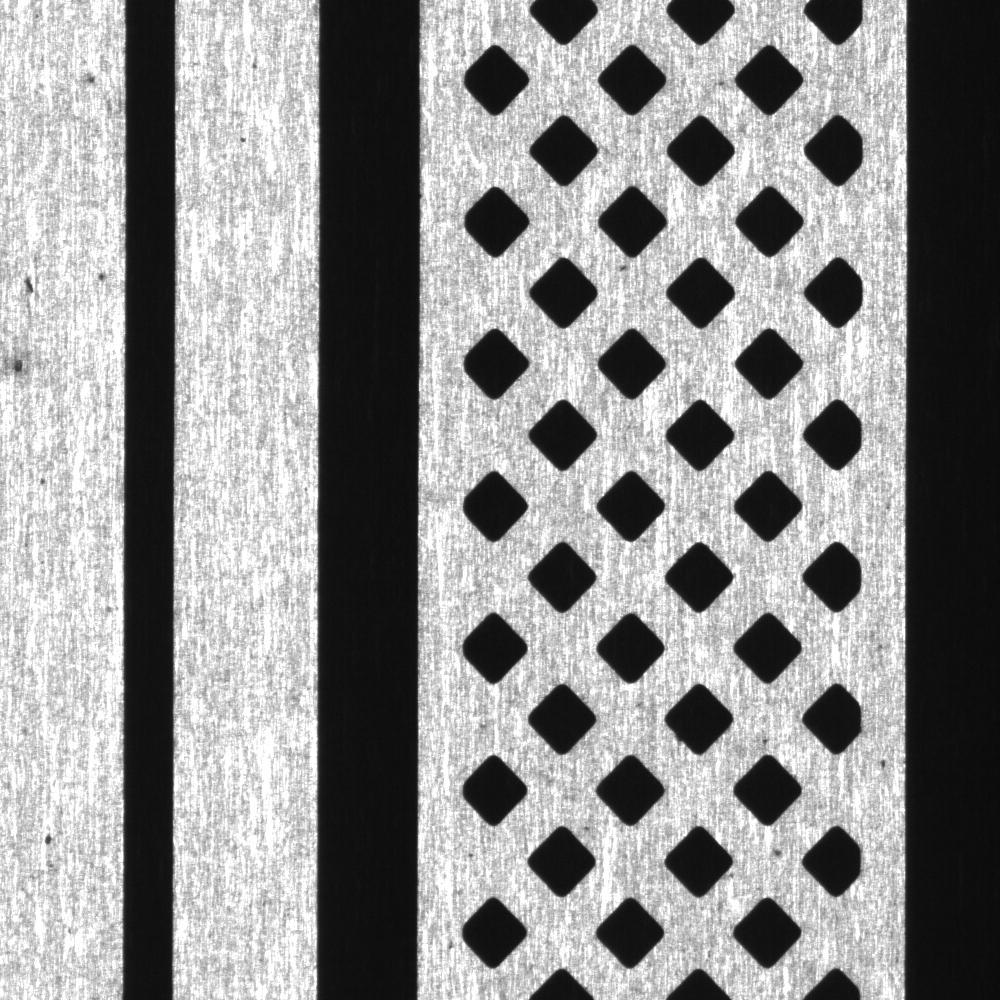Etching: (7, 254, 57, 320), (2, 347, 44, 391), (35, 829, 64, 852)
Pinhole: (71, 54, 116, 98), (83, 260, 120, 297), (27, 469, 59, 499), (226, 126, 259, 151), (238, 56, 271, 78)
